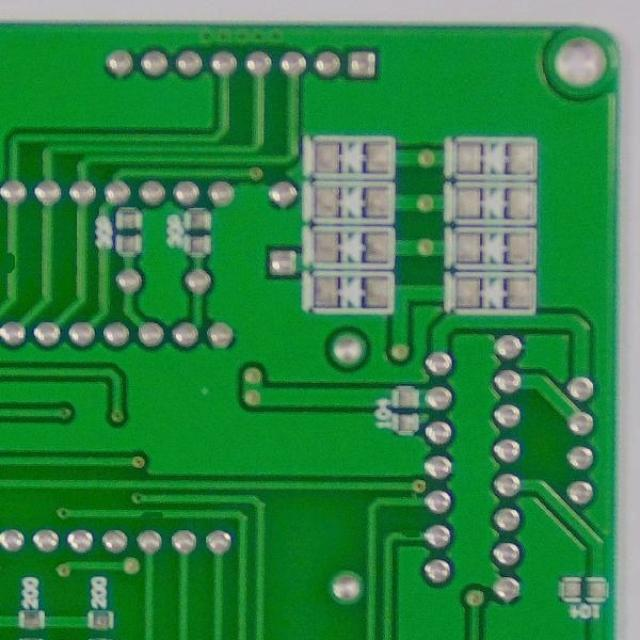MouseBite: (396, 524, 425, 546), (4, 247, 22, 280), (135, 506, 172, 522)
